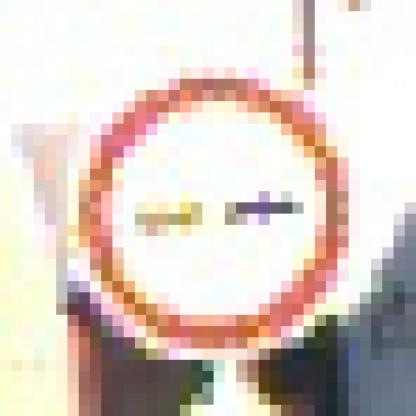No Overtaking: (68, 68, 361, 361)
